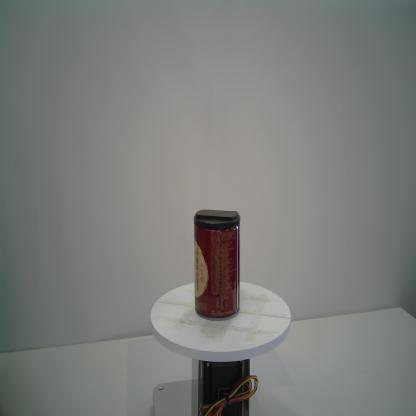Canned Food: (192, 207, 242, 321)
